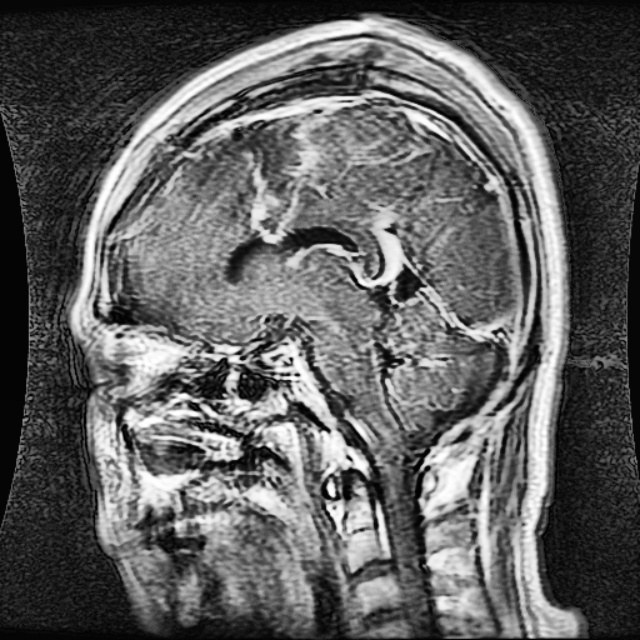Meningioma: (207, 112, 324, 240)
